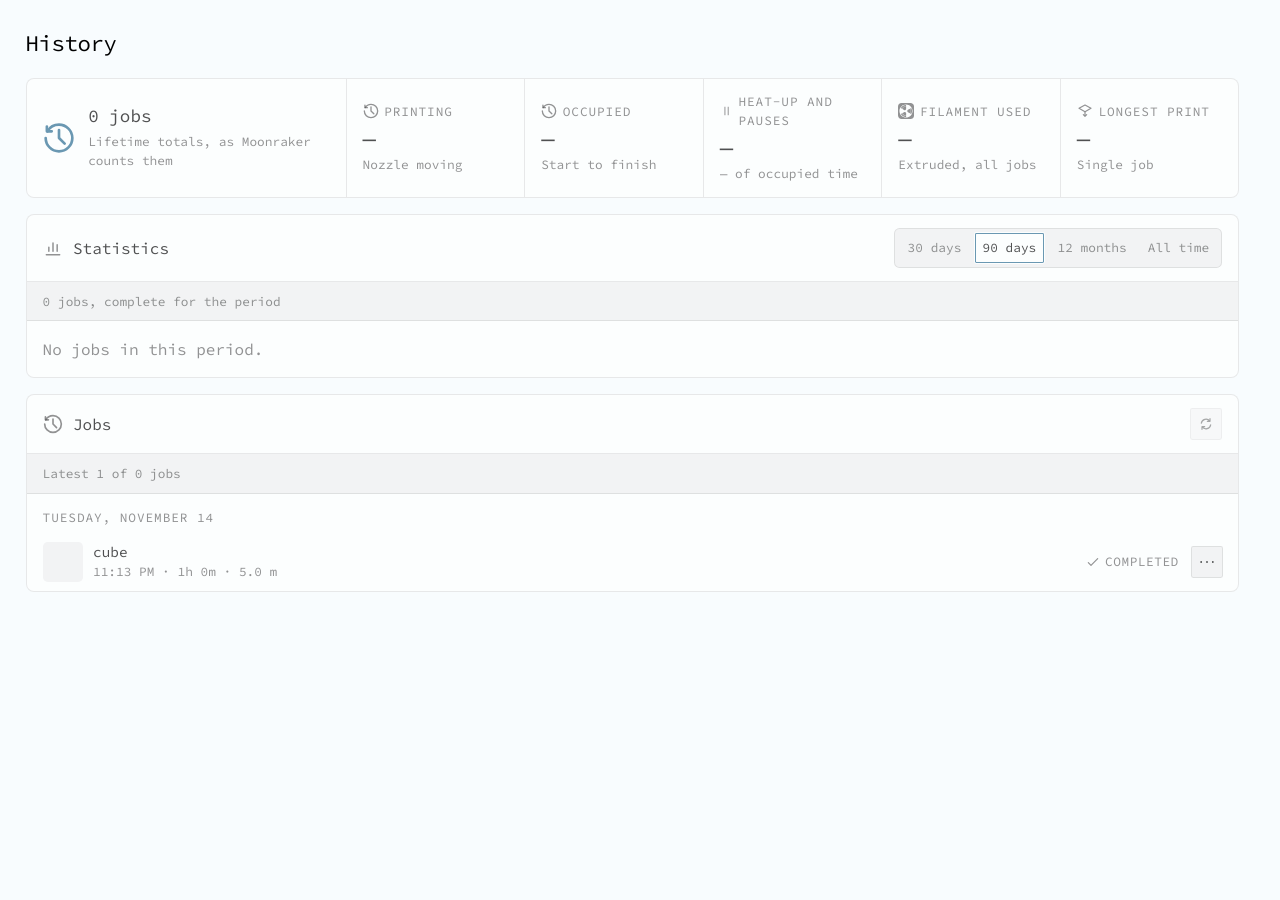
Test: HistoryView › shows which spool printed a job in its details, once its row is opened
Click the button with class "machine-row__toggle" at (63, 562), box [43, 542, 1050, 582]
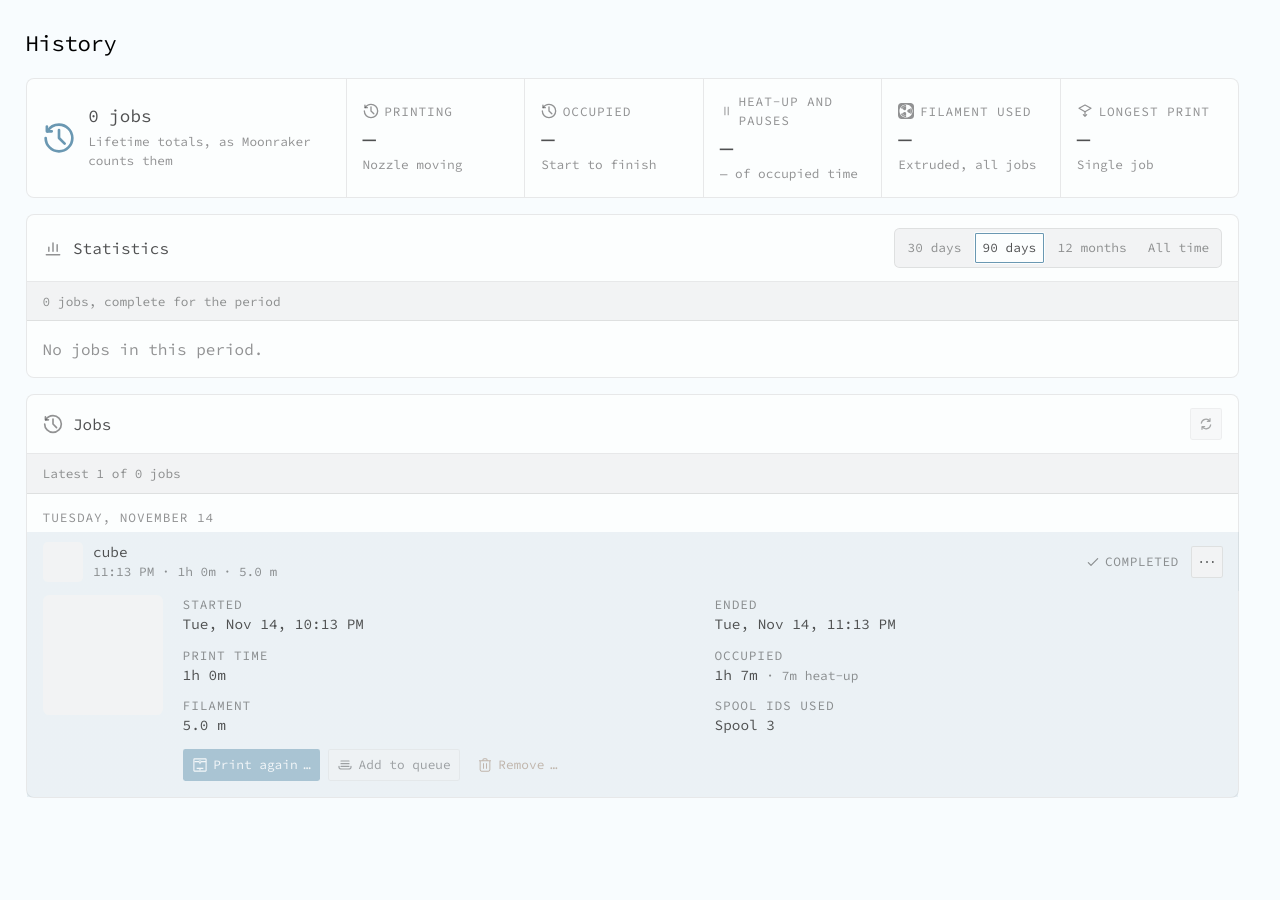
Now the element with class "machine-row-facts" shows "Spool 3", box [714, 716, 775, 734]
